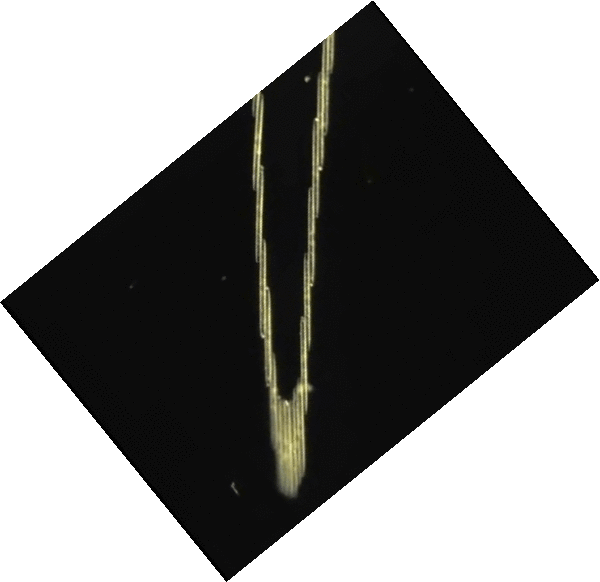bacilleria: (272, 392, 285, 492), (268, 354, 279, 446), (257, 238, 266, 338), (302, 252, 311, 349), (318, 75, 327, 170), (282, 399, 291, 494), (253, 95, 262, 189), (300, 317, 309, 411), (292, 392, 300, 496), (297, 383, 306, 475), (264, 286, 272, 387), (313, 118, 321, 217), (308, 188, 315, 287), (257, 167, 264, 263), (322, 36, 335, 75)
